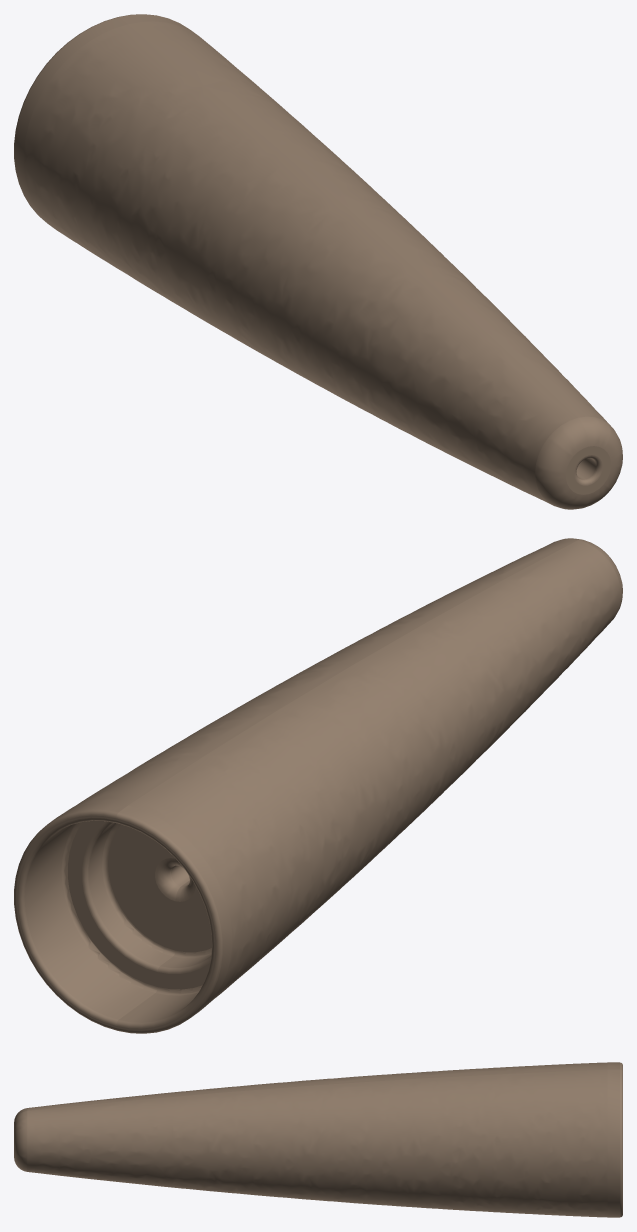
Rendered from 281144_DECOMPRESSION CONE TOOL.fbx.
The picture shows the model from 3 angles, top to bottom: view 1: azimuth 30°, elevation 25°; view 2: azimuth 150°, elevation 25°; view 3: azimuth 270°, elevation 25°; orthographic projection. The views are drawn at different scales.
Visible parts, largest first — view 1: meshes[0]; view 2: meshes[0]; view 3: meshes[0].
Part boxes in pixels (bbox=[...]): meshes[0]: bbox=[14, 14, 622, 509]; meshes[0]: bbox=[14, 538, 622, 1033]; meshes[0]: bbox=[14, 1062, 622, 1217].
Size of the model in its own units: 10.18 by 10.2 by 40.
